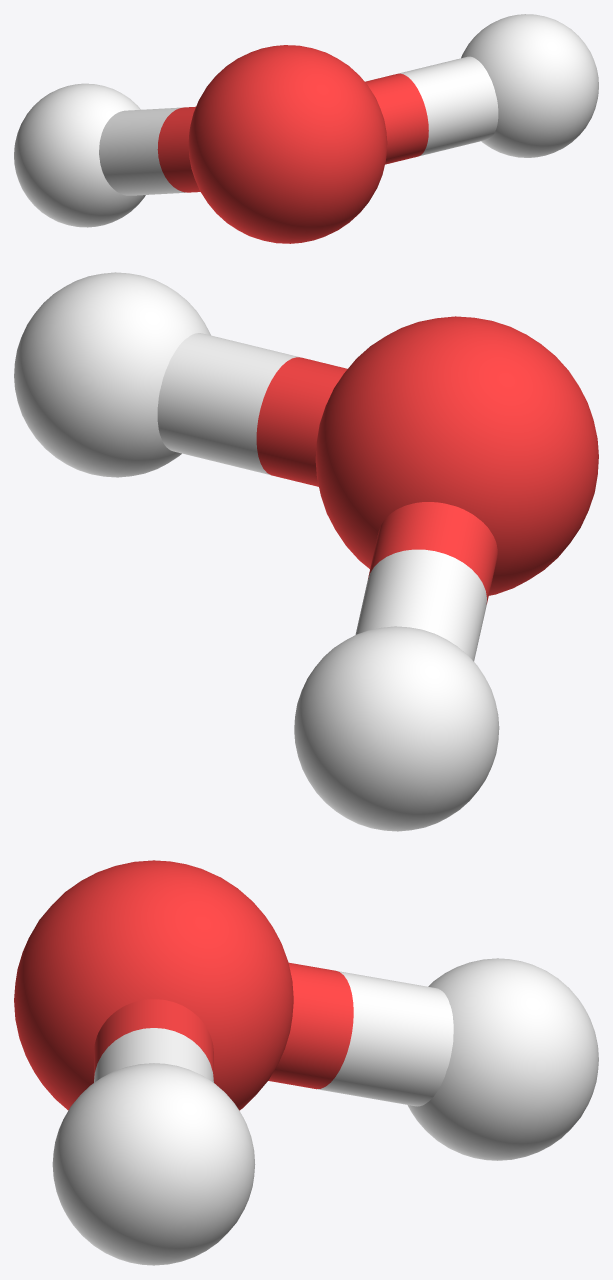
Rendered from water.glb.
The picture shows the model from 3 angles, top to bottom: view 1: azimuth 30°, elevation 25°; view 2: azimuth 150°, elevation 25°; view 3: azimuth 270°, elevation 25°; orthographic projection. The views are drawn at different scales.
Visible parts, largest first — view 1: water_ballstick_0; view 2: water_ballstick_0; view 3: water_ballstick_0.
Part boxes in pixels (x1,y1,x2,y2): water_ballstick_0: [14, 14, 598, 243]; water_ballstick_0: [14, 272, 598, 831]; water_ballstick_0: [14, 860, 598, 1265].
Bounding box in the file's own units: 1.8 × 0.917 × 1.46.
